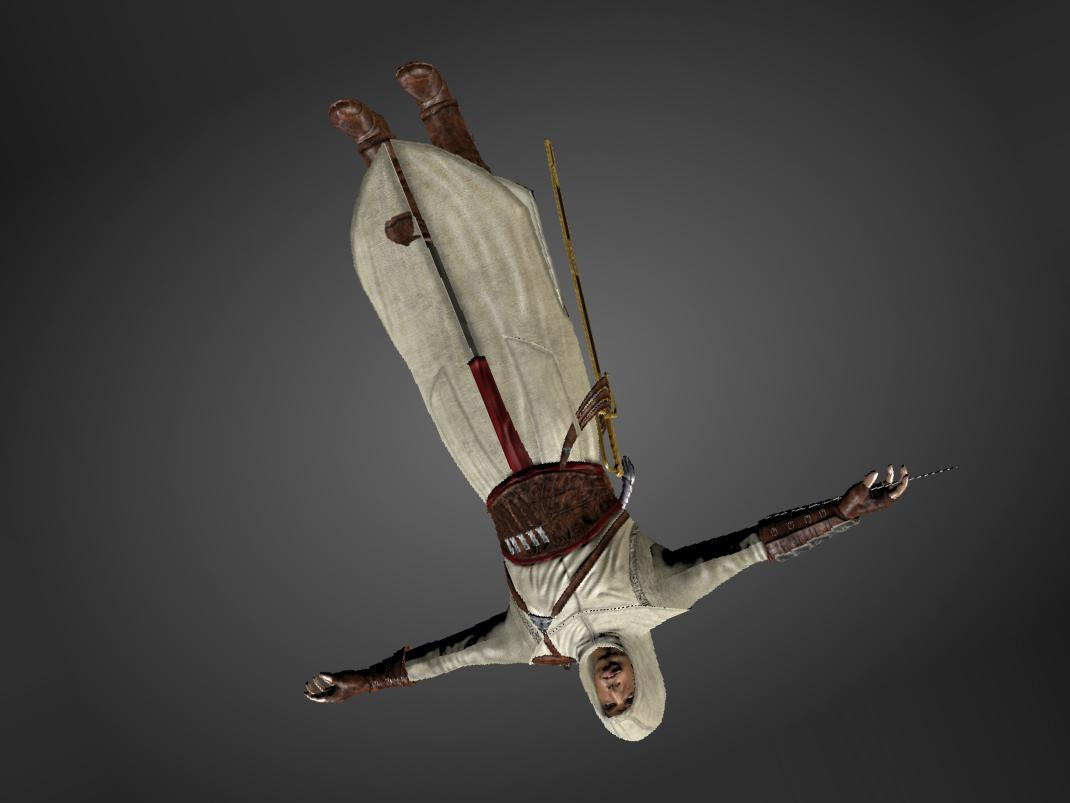clip: (379, 207, 426, 251)
